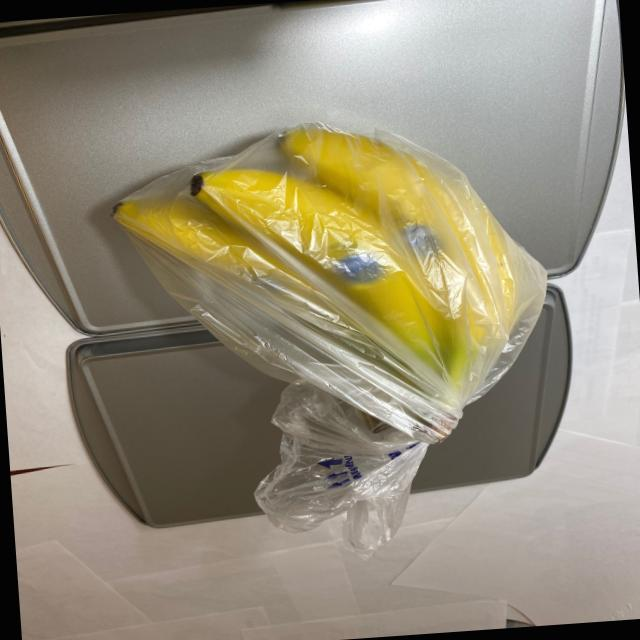banana: (98, 102, 546, 470)
